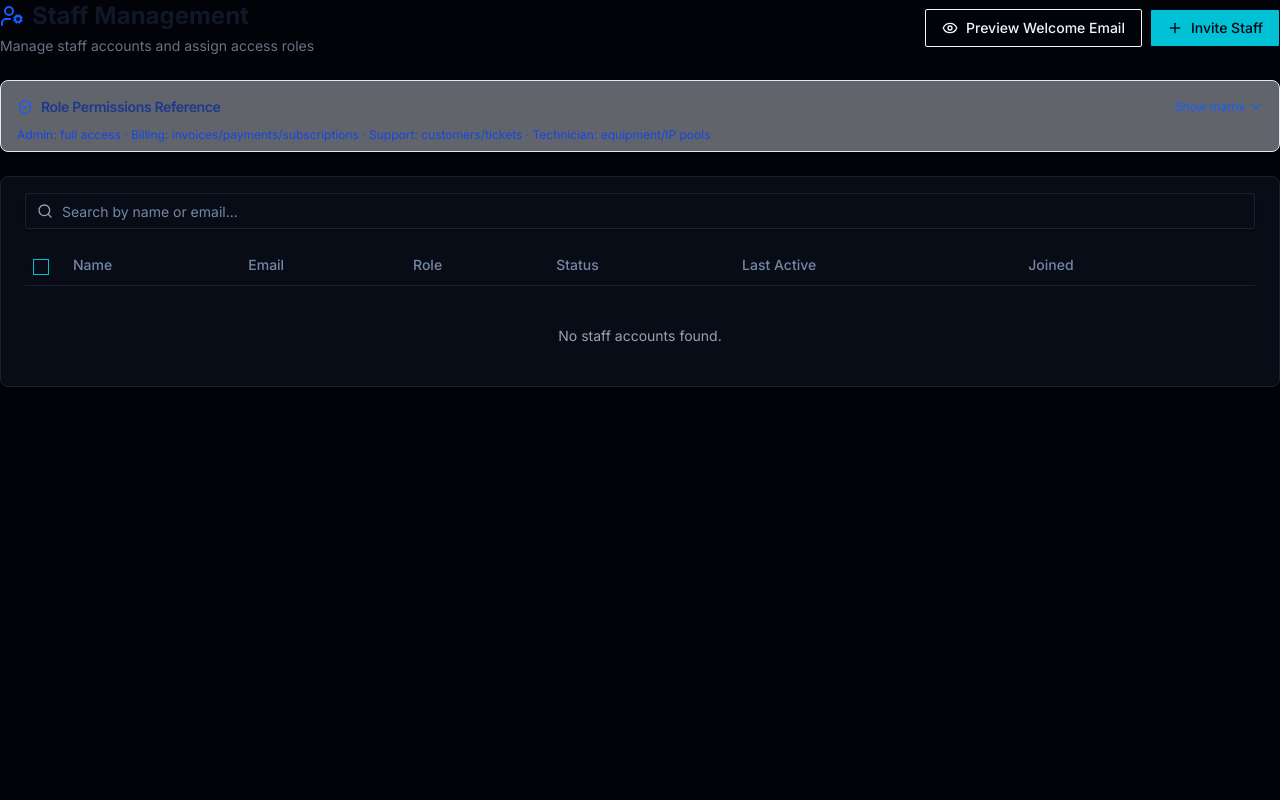
Scenario: Staff page — failed welcome email › keeps the invite dialog open and warns the admin to share credentials manually
The image size is (1280, 800).
Click the button "Invite Staff" at (1215, 28), box [1150,9,1279,47]
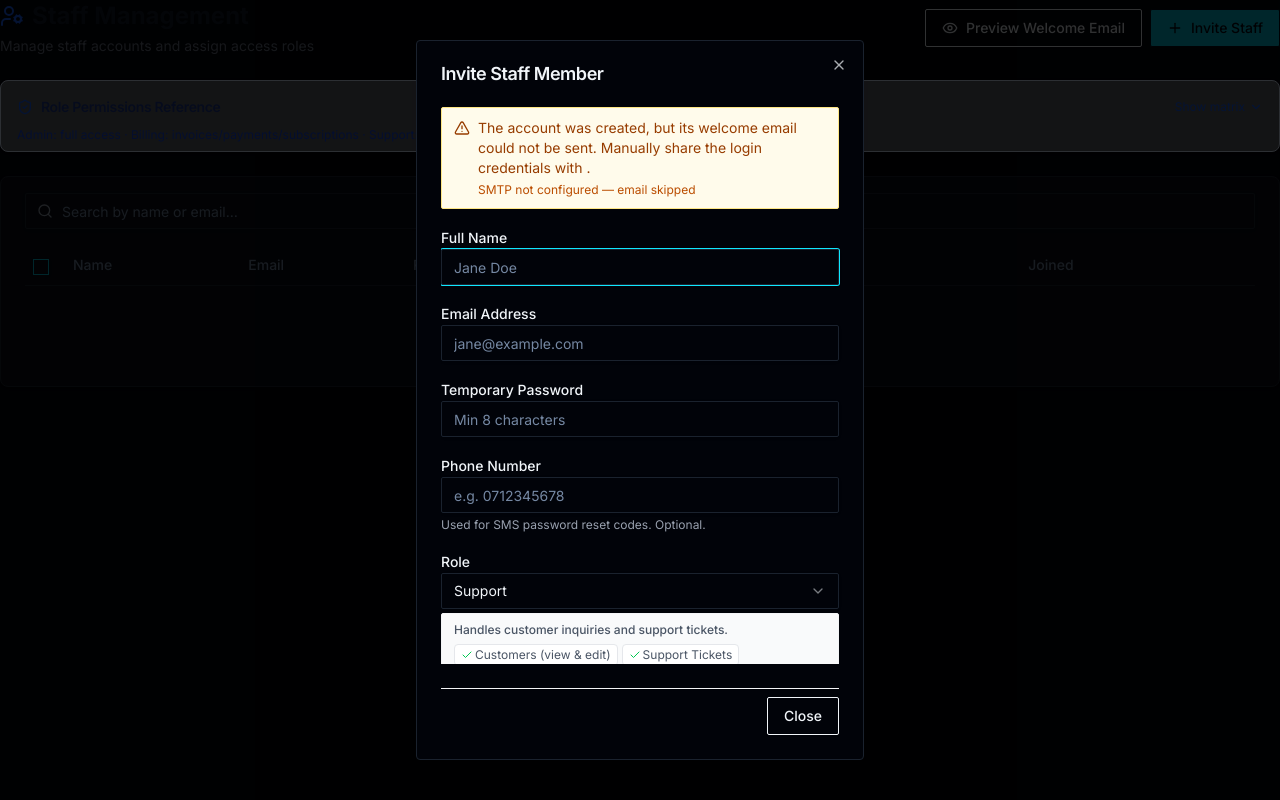
Check: the text "Manually share the login credentials" is shown, box [478,119,797,176]
Check: the text "SMTP not configured — email skipped" is shown, box [478,182,696,197]
Check: the number of buttons "Close" is 2, box [767,697,839,735]; [831,57,847,73]
